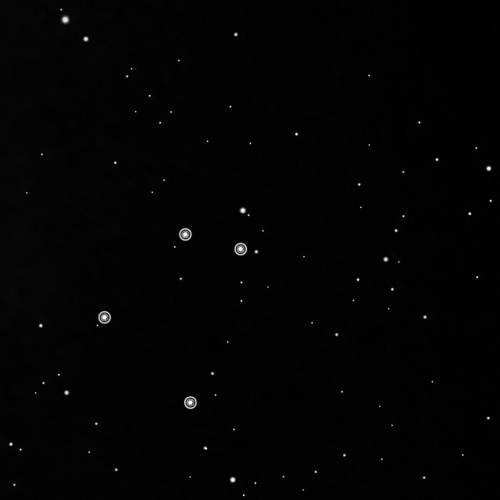coma_berenices: (86, 212, 265, 416)
